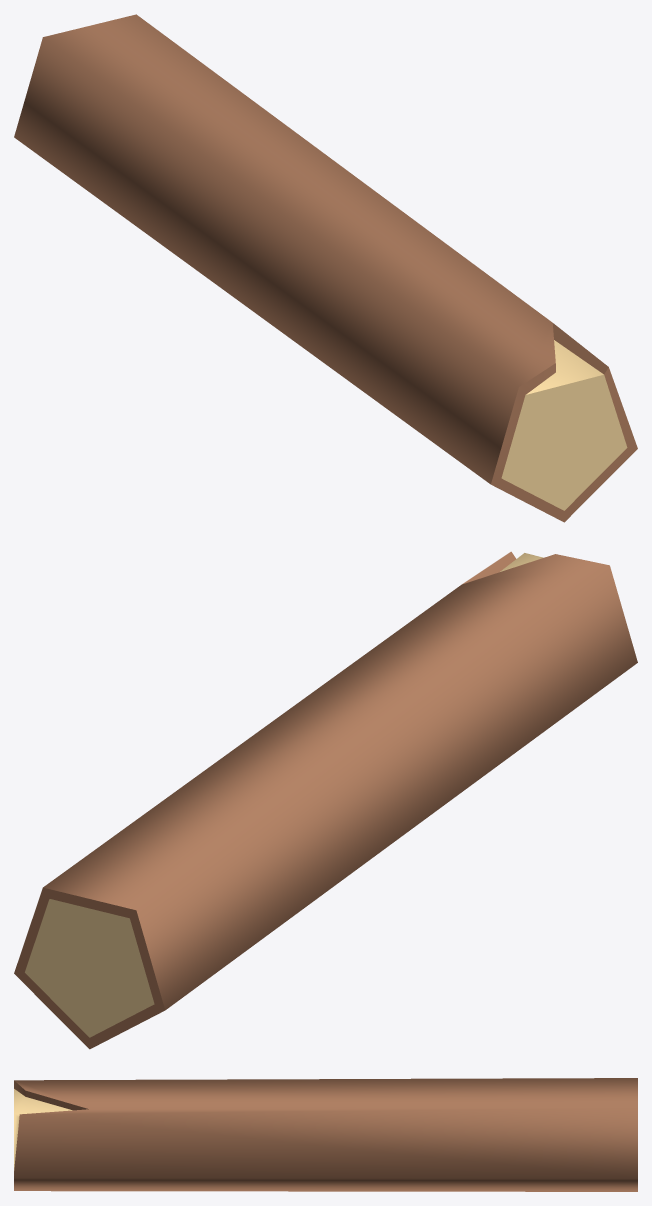
The model's file is Log.fbx.
The picture shows the model from 3 angles, top to bottom: view 1: azimuth 30°, elevation 25°; view 2: azimuth 150°, elevation 25°; view 3: azimuth 270°, elevation 25°; orthographic projection. The views are drawn at different scales.
Visible parts, largest first — view 1: Log; view 2: Log; view 3: Log.
Boxes of the visible parts, left/top/right/bottom form: Log: left=14, top=14, right=637, bottom=522; Log: left=14, top=551, right=637, bottom=1049; Log: left=14, top=1078, right=637, bottom=1191.
Bounding box in the file's own units: 1.49 × 1.45 × 8.1.
